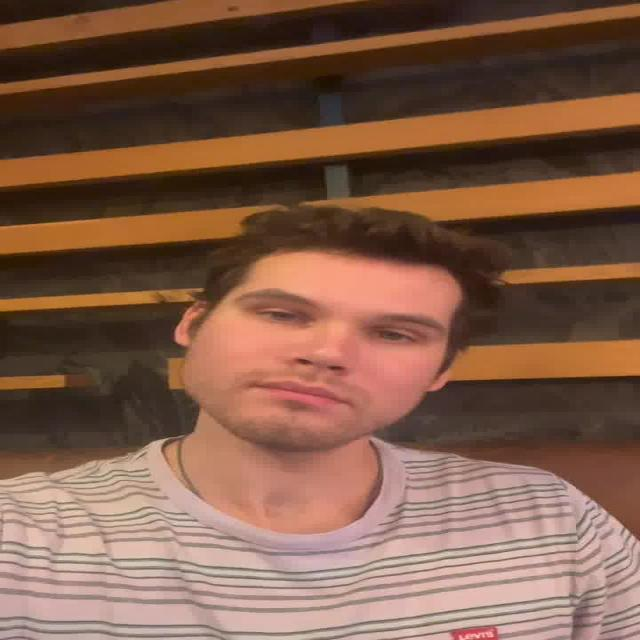earlobe: (173, 330, 194, 348), (425, 379, 447, 393)
eye: (256, 308, 307, 326), (373, 328, 417, 344)
nose: (290, 362, 345, 386)
wholeear: (173, 299, 209, 348)
